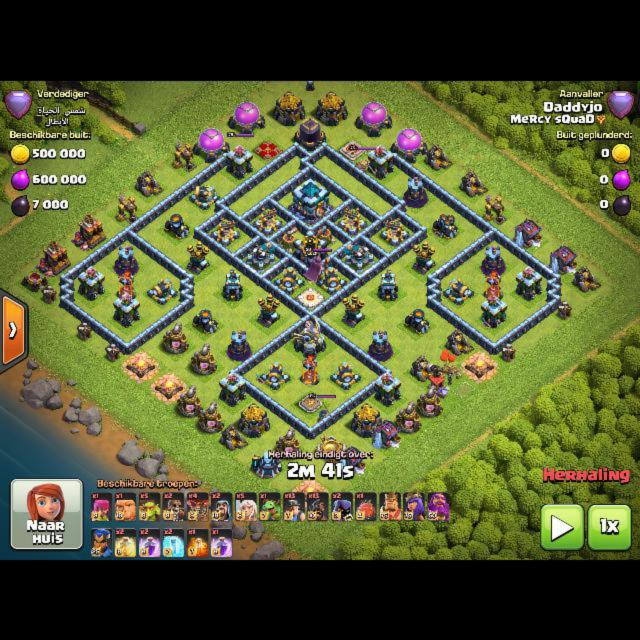AD: (341, 293, 365, 328), (256, 293, 280, 328), (187, 239, 210, 274), (413, 240, 436, 275)
AirSweeper: (277, 226, 299, 253), (313, 225, 335, 248)
BombTower: (223, 268, 242, 300), (379, 268, 398, 300)
Canon: (330, 361, 361, 389), (260, 361, 291, 389), (274, 266, 305, 294), (317, 265, 347, 293), (443, 278, 474, 305), (147, 278, 178, 305), (189, 184, 220, 209)
ClanCastle: (293, 228, 327, 268)
Eagle: (293, 316, 326, 356)
Inferno: (300, 355, 319, 386), (484, 269, 503, 299), (117, 269, 136, 299)
KingPad: (340, 139, 367, 159)
Mortar: (403, 308, 430, 334), (163, 212, 190, 238), (432, 213, 458, 239), (192, 309, 219, 334)
QueenPad: (254, 139, 283, 160)
RcPad: (299, 393, 322, 411)
Scattershot: (343, 243, 374, 272), (247, 241, 276, 271)
TH13: (291, 175, 329, 223)
WardenPad: (298, 288, 323, 306)
WizzTower: (228, 328, 251, 360), (369, 329, 392, 361), (404, 176, 427, 207), (482, 245, 505, 276), (115, 244, 137, 274)
Xbow: (252, 207, 283, 236), (210, 217, 240, 246), (379, 217, 409, 246), (337, 206, 368, 234)
